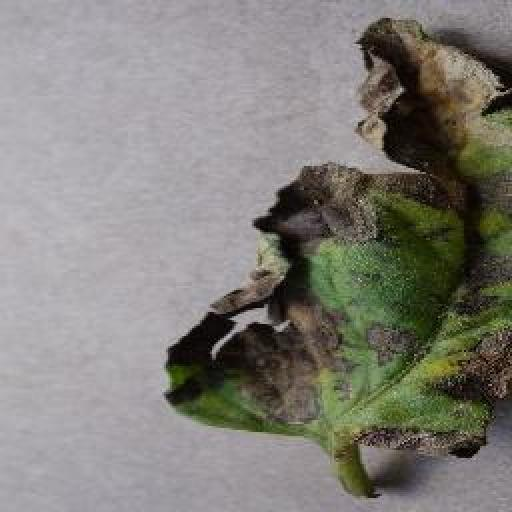Early Blight: (164, 16, 512, 461)
